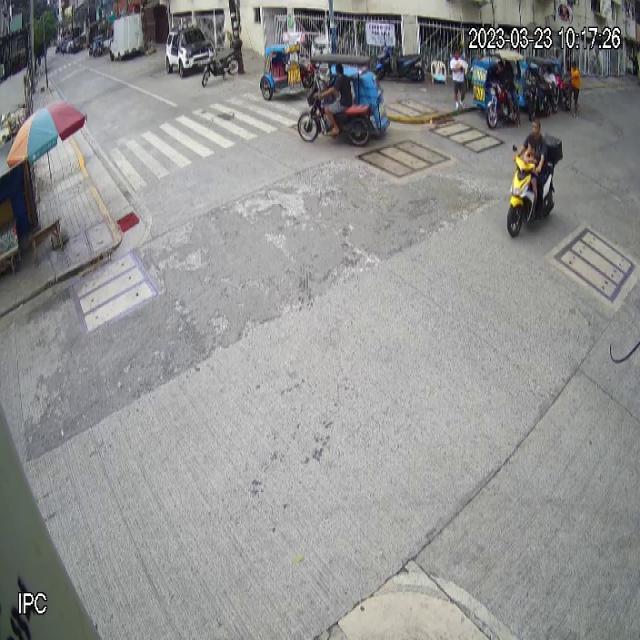Motorcycle: (507, 133, 564, 239)
Tricycle: (298, 52, 390, 146), (472, 48, 526, 129)
